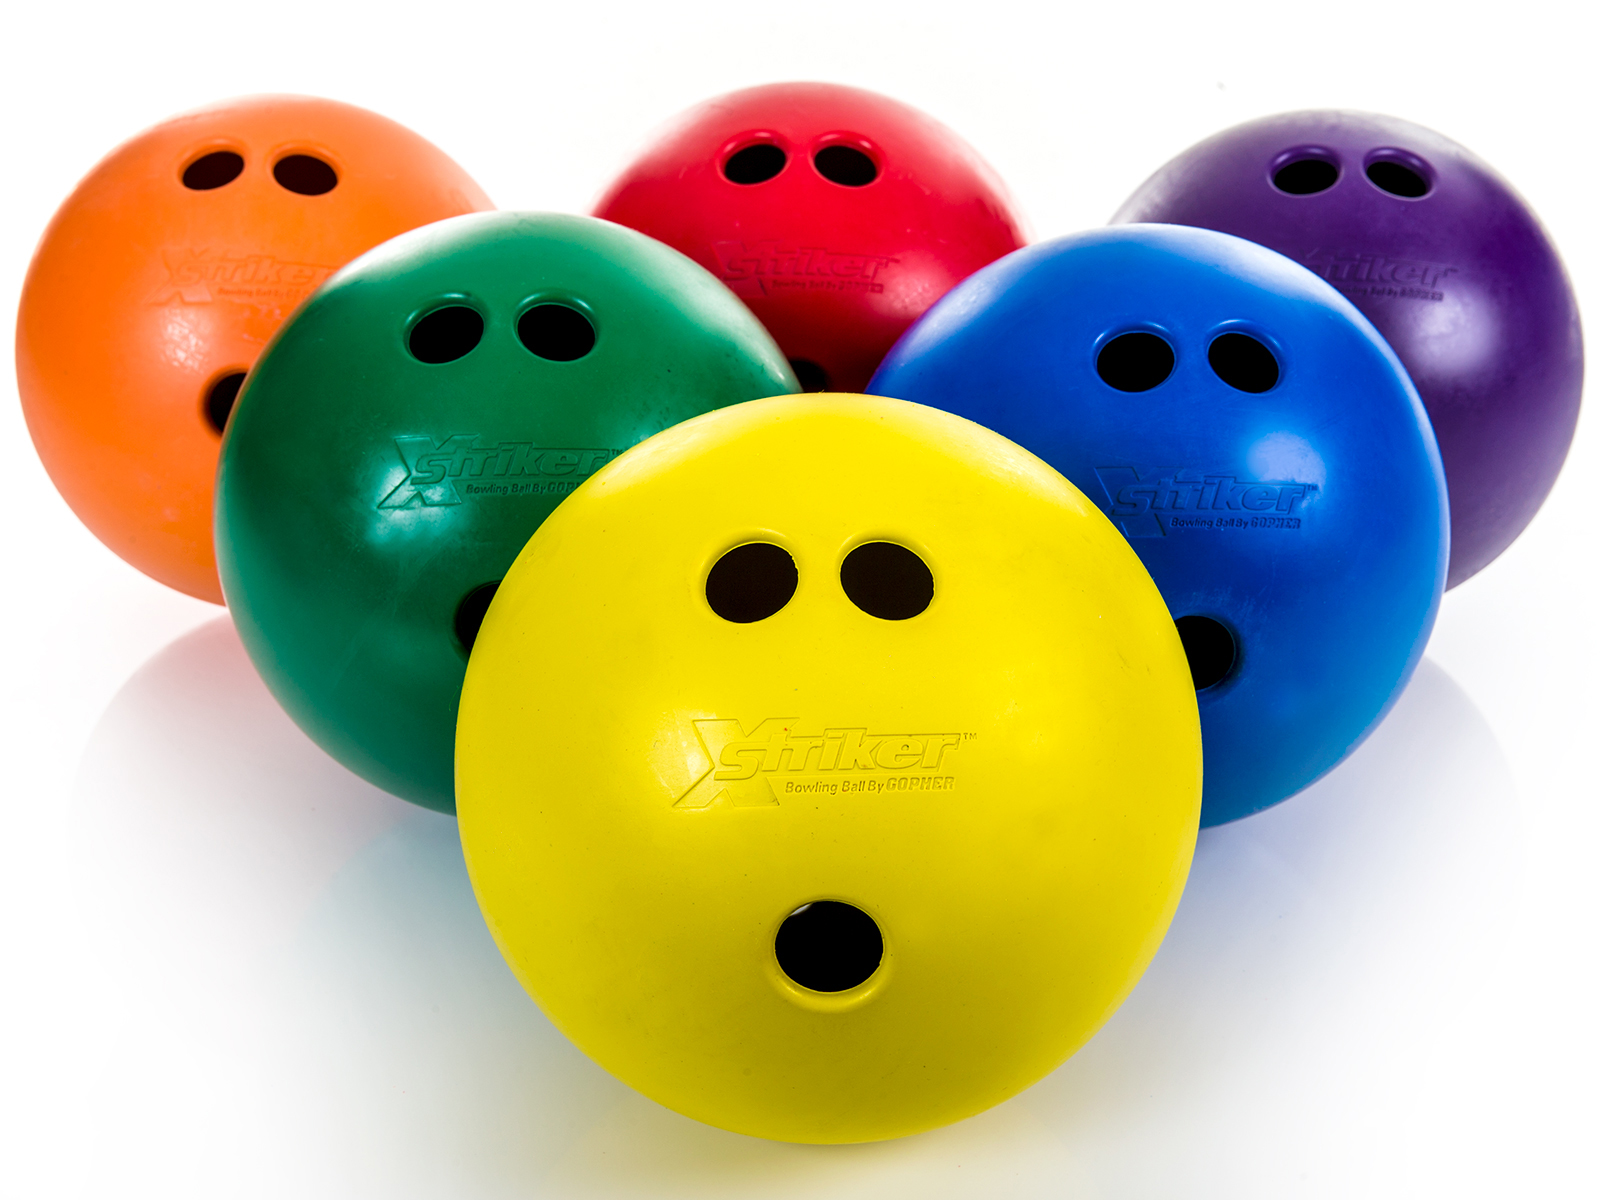Nonrec_Plastic: (16, 26, 1600, 1134), (396, 374, 1220, 1142)
